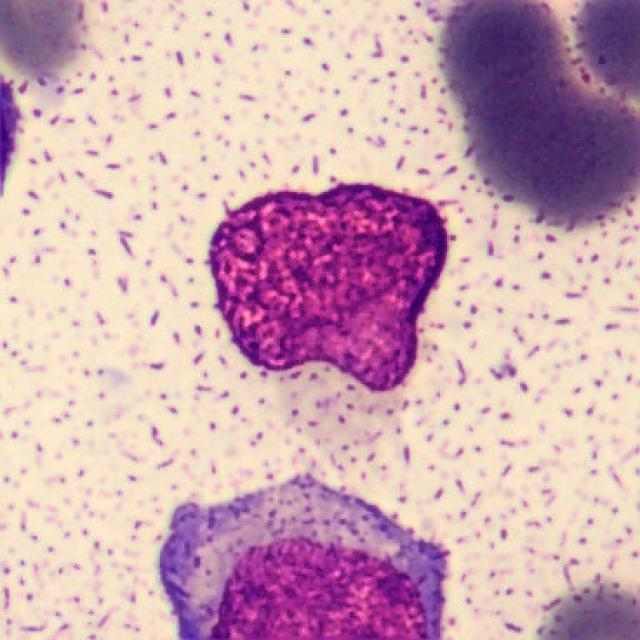Restos celulares: (209, 183, 450, 394)
